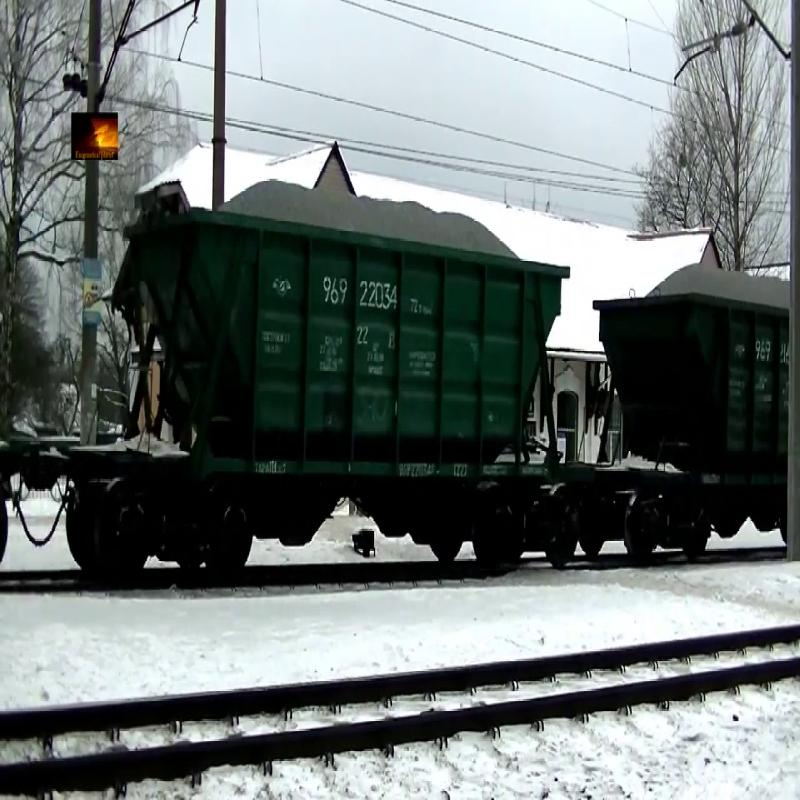train: (123, 181, 574, 579), (596, 259, 787, 570)
